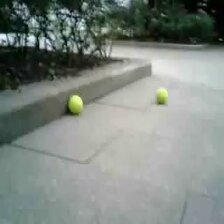tennis: (66, 93, 84, 115), (154, 86, 170, 102)
